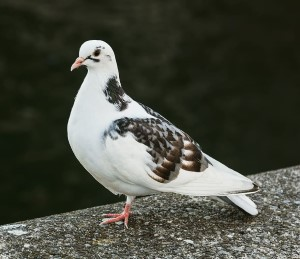pigeon: (65, 36, 264, 230)
